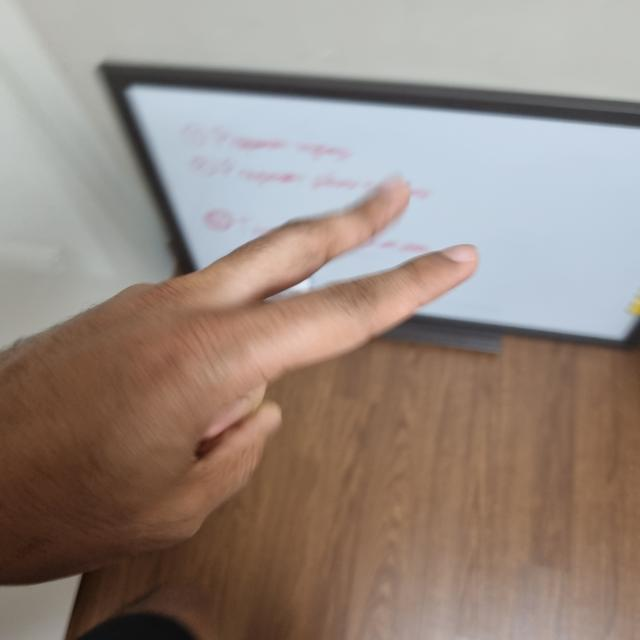Scissors: (0, 185, 475, 573)
